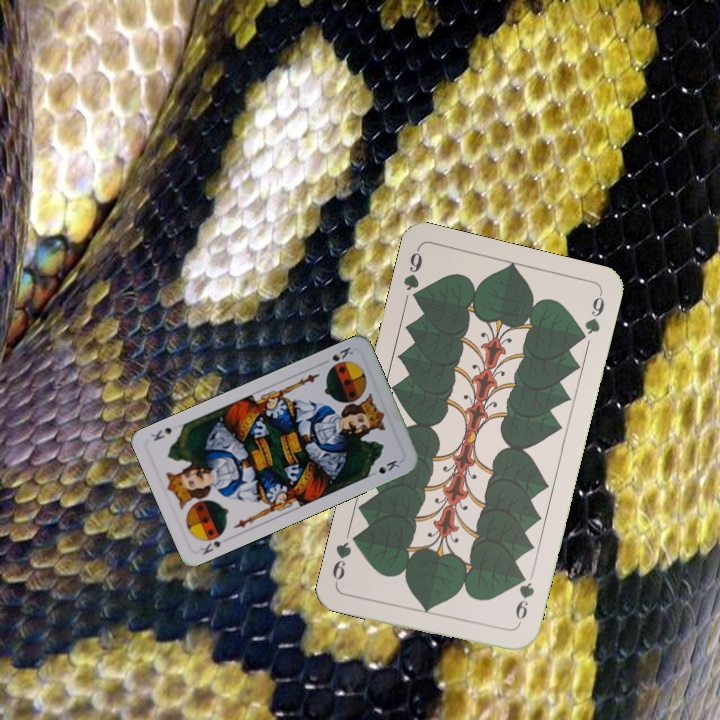G9: (399, 245, 425, 306), (511, 570, 537, 630)
SK: (196, 528, 233, 557), (328, 343, 356, 364)
